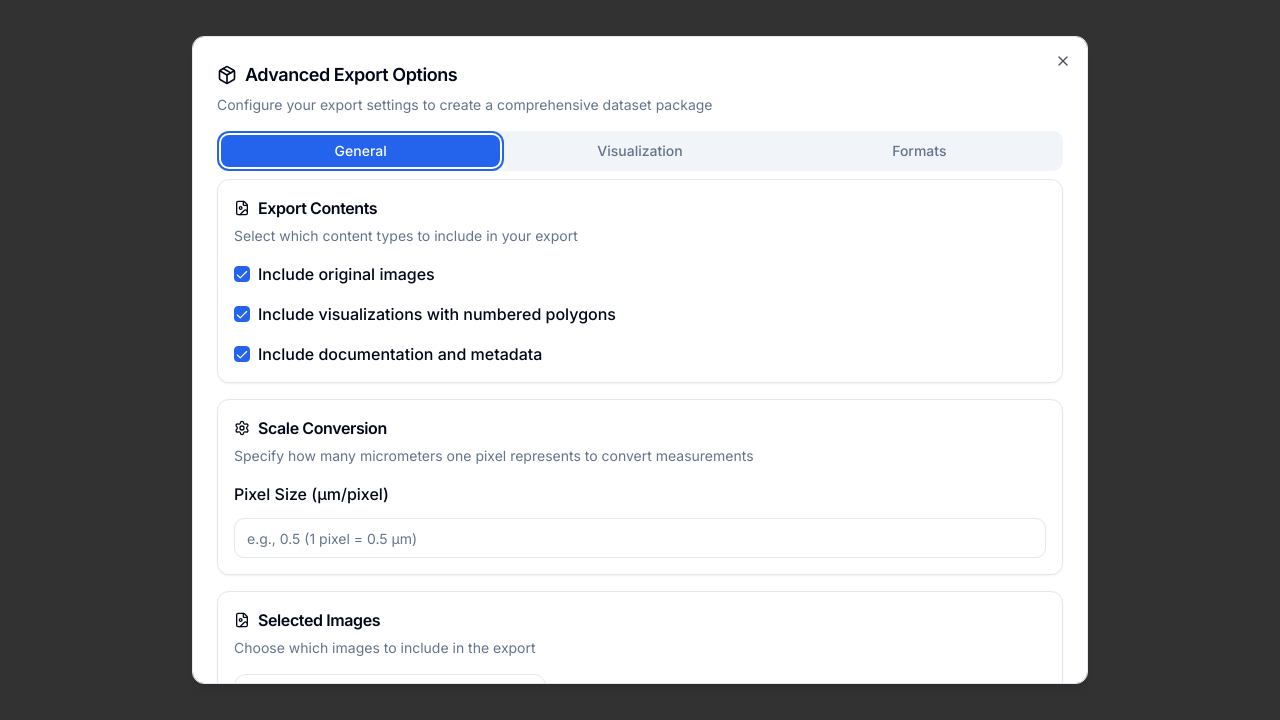
Test: AdvancedExportDialog › summary card on Formats tab › displays correct selected image count when no selectedImageIds
Click the tab "Formats" at (919, 151), box [780, 135, 1059, 167]
(page scrolled)
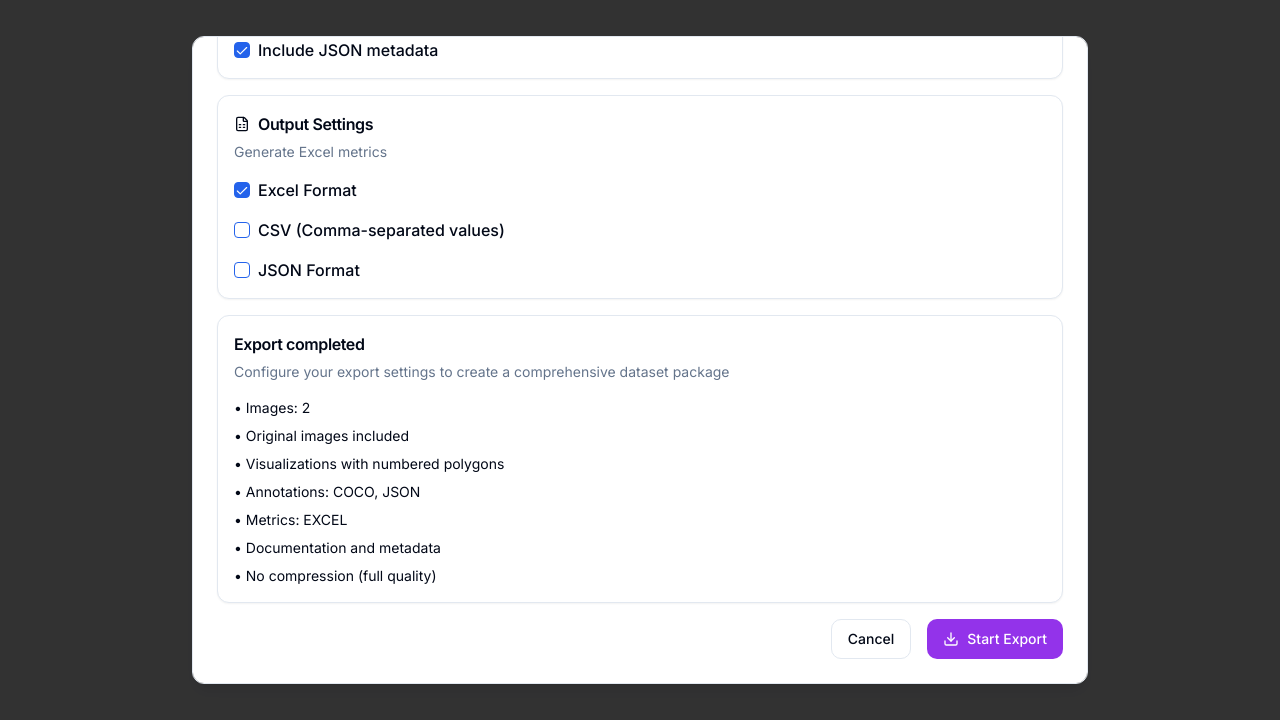
Expected: the text "• Images: 2" is shown, [234, 399, 310, 416]
